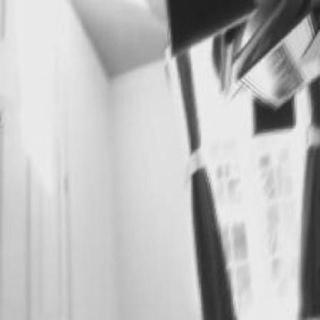other: (182, 73, 216, 313), (291, 88, 317, 320)
